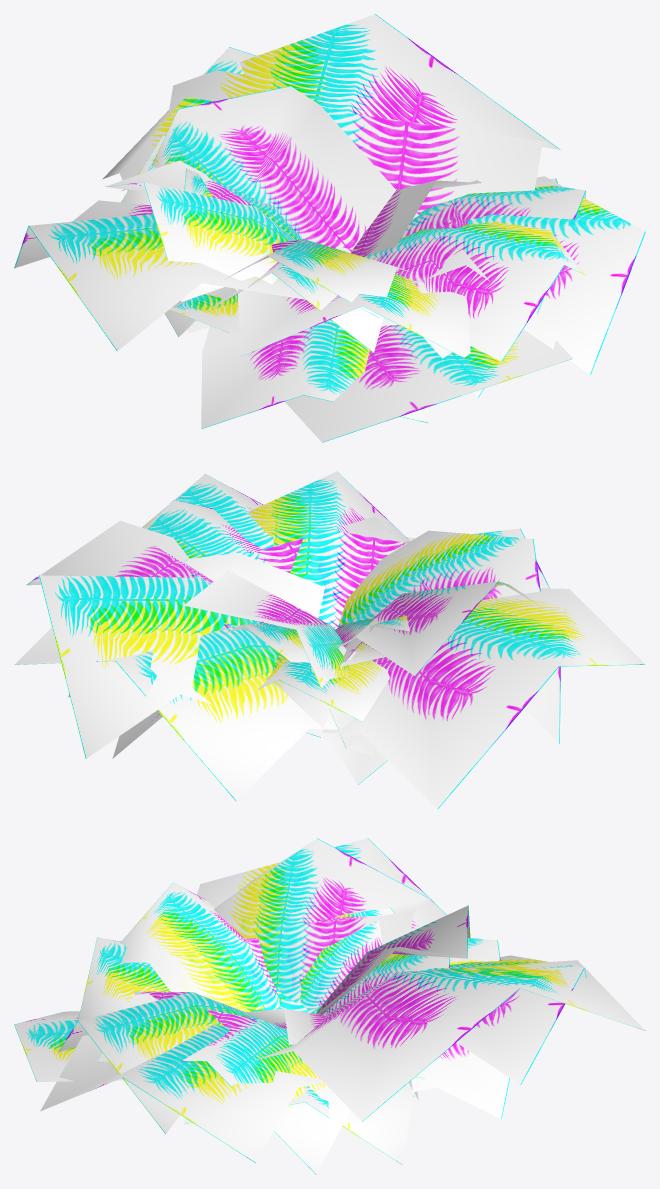
Rendered from Plant 7.FBX.
3 renders of one model, top to bottom at view 1: azimuth 30°, elevation 25°; view 2: azimuth 150°, elevation 25°; view 3: azimuth 270°, elevation 25°, orthographic. The views are drawn at different scales.
Visible parts, largest first — view 1: Plane002; view 2: Plane002; view 3: Plane002.
Boxes of the visible parts, left/top/right/bottom form: Plane002: left=14, top=14, right=645, bottom=442; Plane002: left=14, top=471, right=645, bottom=808; Plane002: left=14, top=838, right=645, bottom=1174.
Bounding box in the file's own units: 39.69 × 14.6 × 44.15.
